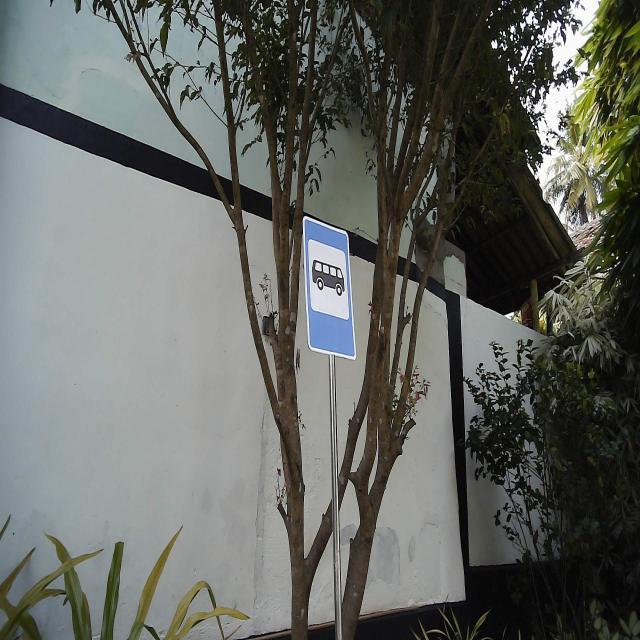bus_stop: (301, 214, 358, 363)
